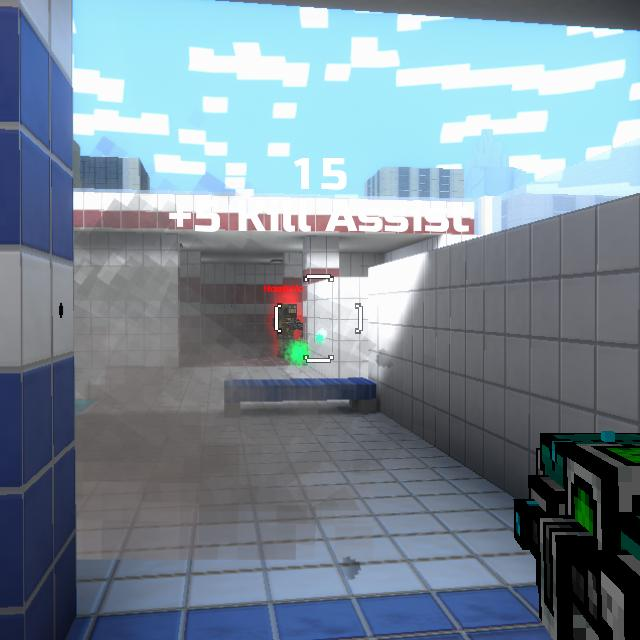Enemy: (273, 302, 303, 358)
